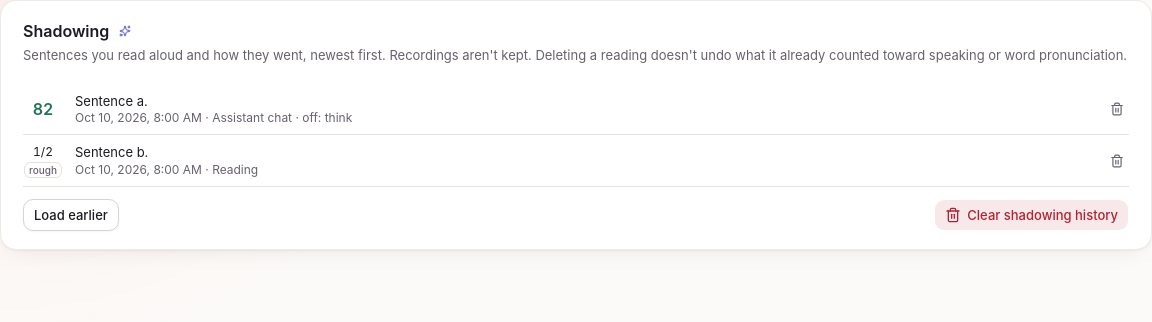
ShadowingHistory › lists readings with their scores, rough ones marked, and loads earlier ones
Expected: the list item with test id "shadowing-item" shows "82", x1=33 y1=99 x2=53 y2=119
Expected: the list item with test id "shadowing-item" shows "Assistant chat · off: think", x1=23 y1=84 x2=1129 y2=135
Click the button "Load earlier": (71, 215) x1=23 y1=199 x2=119 y2=231
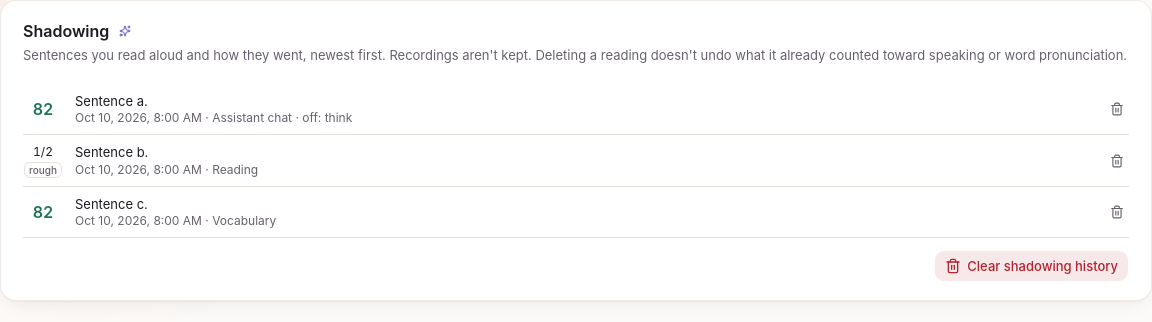
Result: the number of list items with test id "shadowing-item" is 3 at x1=23 y1=84 x2=1129 y2=135; x1=23 y1=135 x2=1129 y2=187; x1=23 y1=187 x2=1129 y2=238
Result: the button "Load earlier" is gone
